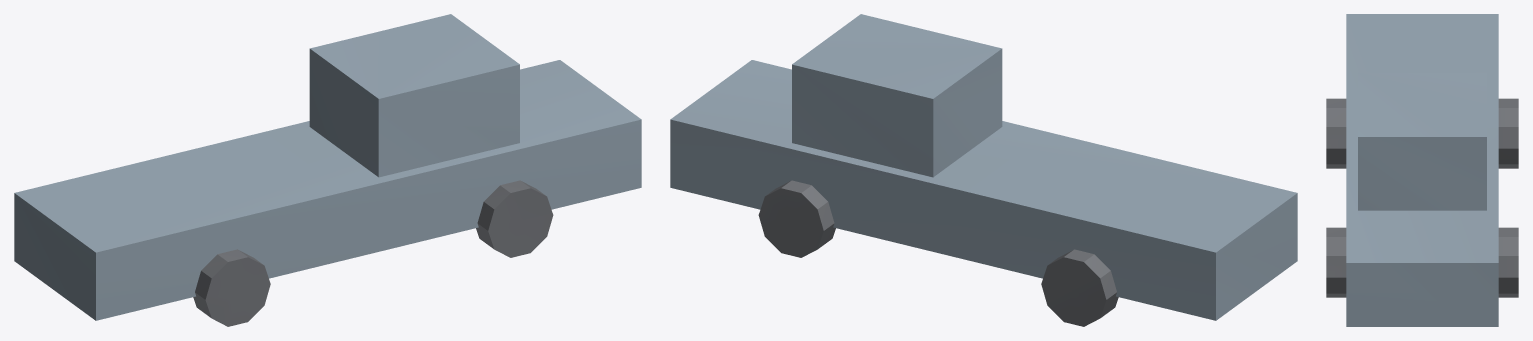
Rendered from road_vehicle-08.glb.
3 renders of one model, left to right at view 1: azimuth 30°, elevation 25°; view 2: azimuth 150°, elevation 25°; view 3: azimuth 270°, elevation 25°, orthographic. The views are drawn at different scales.
Parts seen in each view (by area): view 1: world; view 2: world; view 3: world.
Part boxes in pixels (<box>): world: <box>14,14,641,326</box>; world: <box>670,14,1297,326</box>; world: <box>1326,14,1518,326</box>.
Bounding box in the file's own units: 2.51 × 0.7677 × 0.82.
